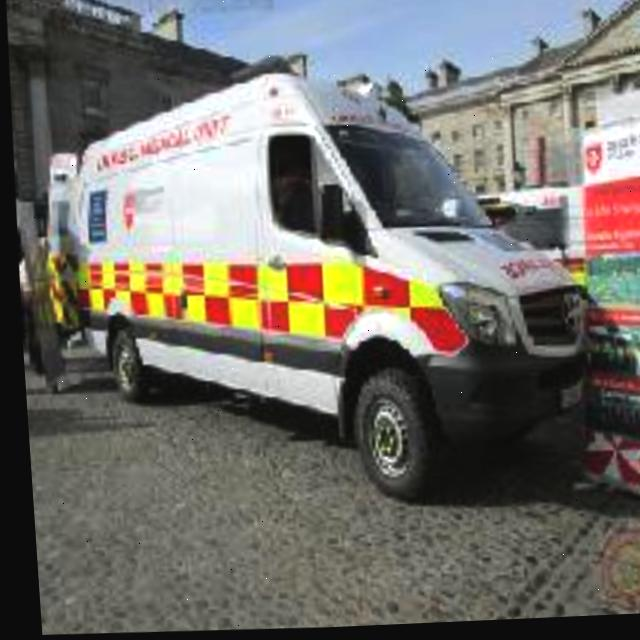emergency: (32, 60, 588, 514)
